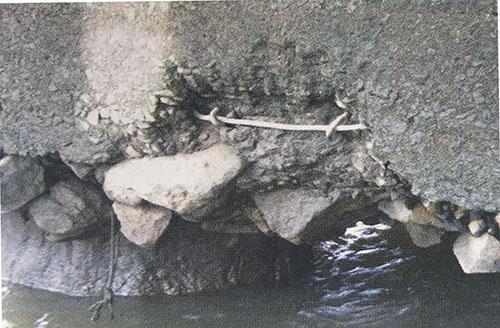Exposed reinforcement: (192, 110, 368, 133), (325, 111, 350, 145), (209, 106, 235, 128)
Spalling: (95, 38, 432, 201)
